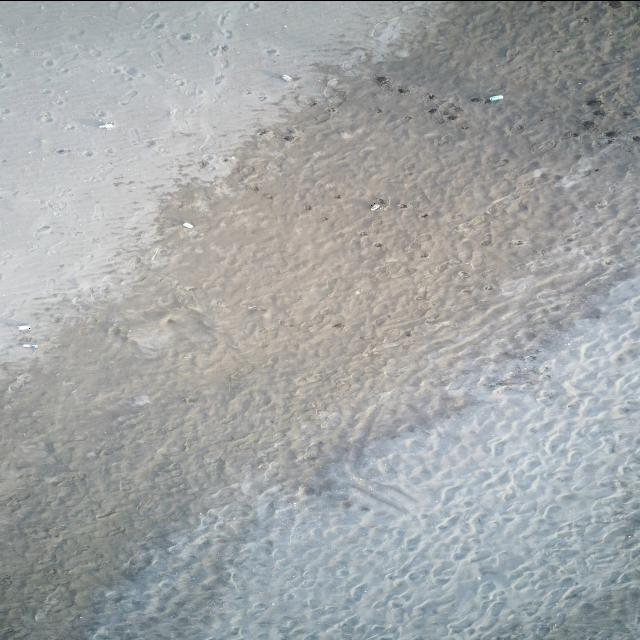Garbage: (129, 395, 150, 406), (369, 198, 386, 211), (487, 94, 503, 101), (100, 120, 114, 128), (369, 201, 380, 211), (16, 324, 30, 331), (23, 343, 36, 350), (281, 74, 292, 80), (183, 221, 192, 227)
